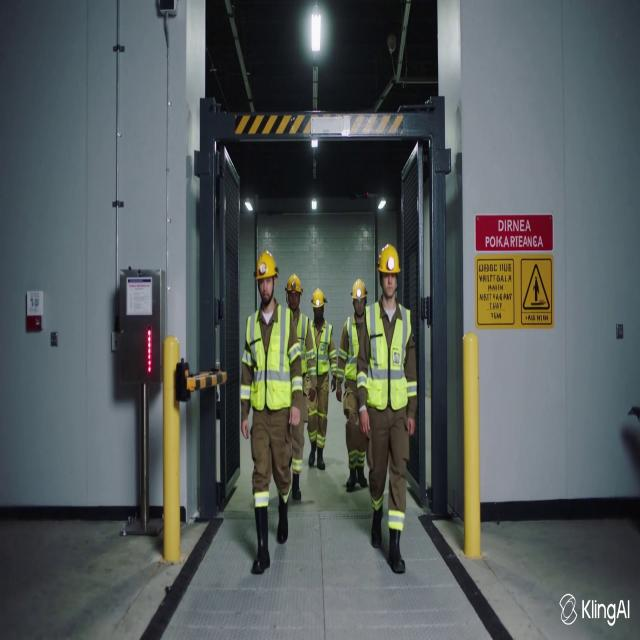Vest: (246, 305, 299, 410), (366, 303, 410, 410), (312, 323, 331, 375), (345, 318, 358, 381), (297, 313, 309, 374)
Worker: (241, 252, 303, 573), (358, 245, 416, 573), (286, 274, 316, 500), (337, 279, 367, 491), (308, 289, 336, 469)
helmet: (255, 251, 278, 279), (378, 244, 400, 273), (286, 274, 302, 293), (352, 279, 366, 299), (312, 288, 325, 308)
